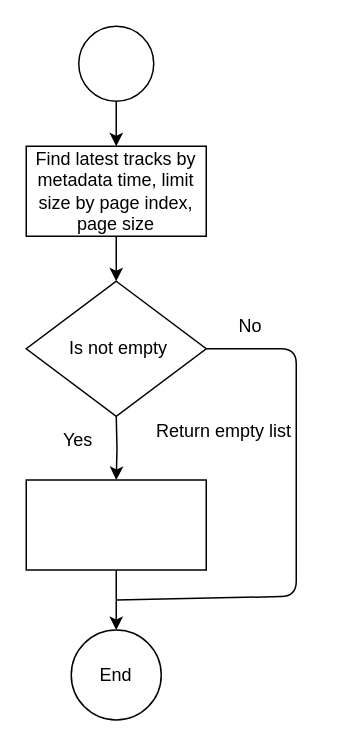
This 345x747 diagram has some shape labels left out. Each missing label, with the box of its shape:
Parse entity to dto: (25, 478, 206, 570)
Start: (77, 25, 154, 101)
